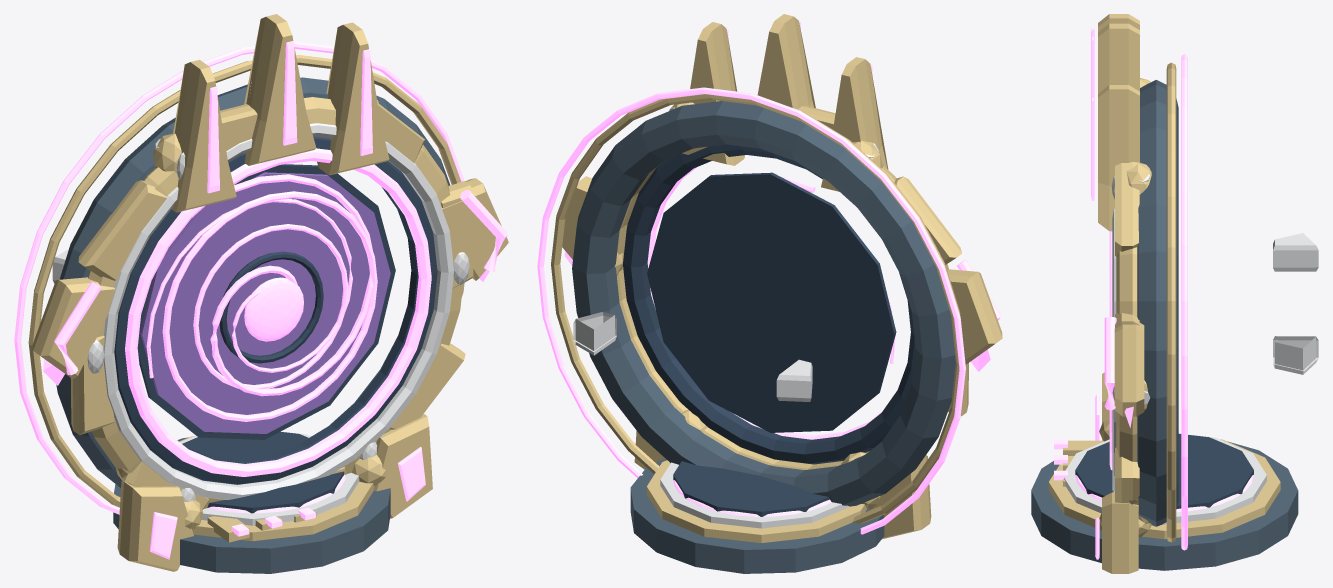
The model's file is portal_universe.glb.
3 views of the same model, side by side, from view 1: azimuth 30°, elevation 25°; view 2: azimuth 150°, elevation 25°; view 3: azimuth 270°, elevation 25° (orthographic). The views are drawn at different scales.
Visible parts, largest first — view 1: group_gold, group_purple, group_amethyst, group_black, group_porcelain, group_graphite; view 2: group_black, group_graphite, group_gold, group_purple, group_porcelain; view 3: group_gold, group_graphite, group_purple, group_porcelain, group_black.
Boxes of the visible parts, x1,y1,x2,y2 form: group_gold: (28,14,508,571); group_purple: (14,41,507,559); group_amethyst: (140,172,390,433); group_black: (114,136,437,513); group_porcelain: (52,123,469,525); group_graphite: (56,77,450,573); group_black: (623,144,915,516); group_graphite: (572,101,955,573); group_gold: (551,14,1002,542); group_purple: (537,22,1001,534); group_porcelain: (573,107,878,528); group_gold: (1048,14,1280,573); group_graphite: (1031,80,1298,570); group_purple: (1054,27,1253,559); group_porcelain: (1062,174,1318,525); group_black: (1075,433,1253,508).
Size of the model in its own units: 6.74 by 7.45 by 3.77.
